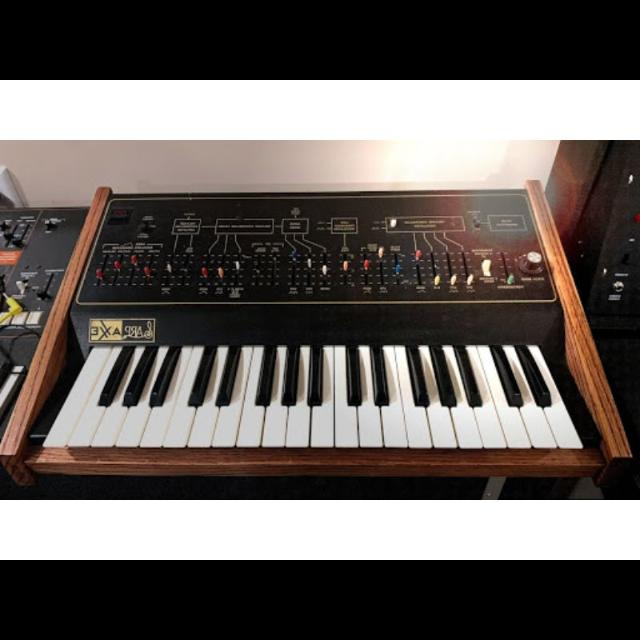Electronic-Keyboard: (28, 185, 618, 470)
